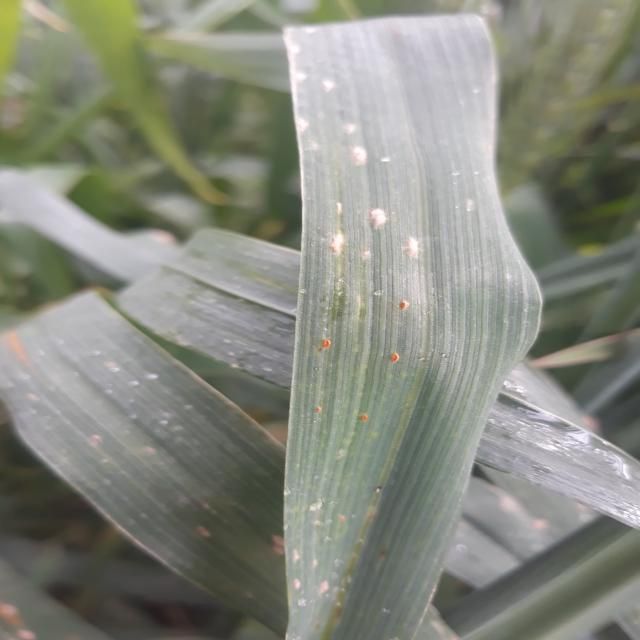orang_rust: (285, 295, 456, 449), (318, 526, 408, 635), (0, 313, 48, 370), (0, 590, 42, 638)
powder_mildew: (262, 19, 502, 284), (3, 374, 308, 562), (478, 476, 634, 570)
